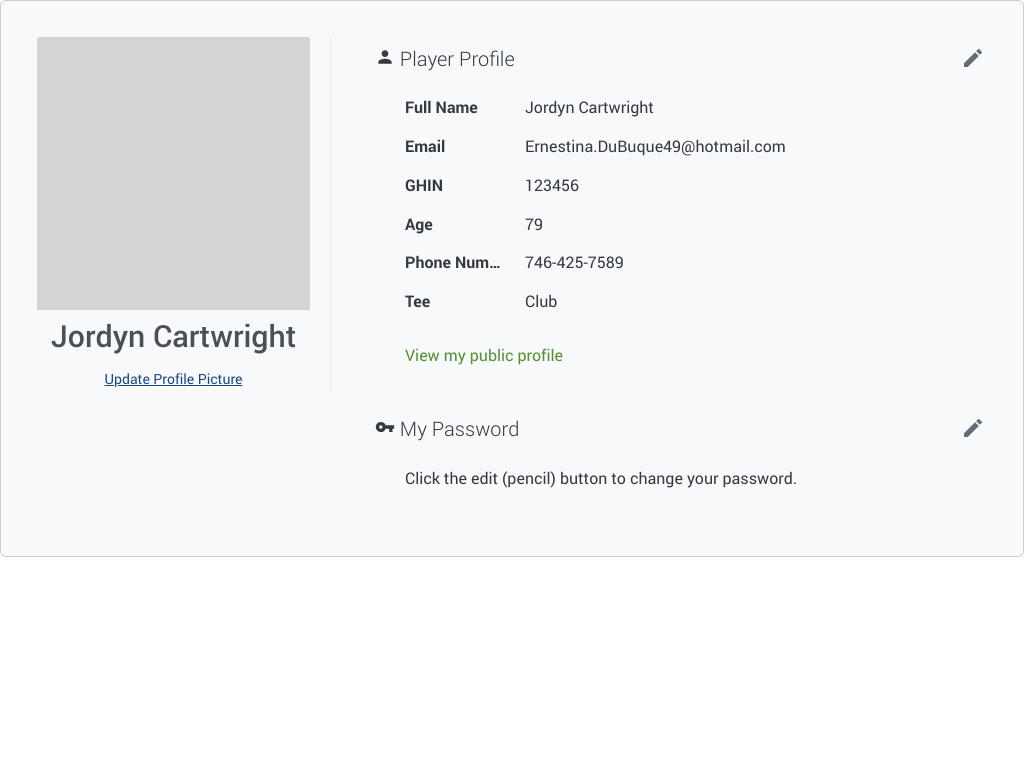
Test case: can edit profile on the player account screen
The width and height of the screenshot is (1024, 768).
// update player
Click the button named "update your player profile" at (970, 60), box [955,45,985,75]
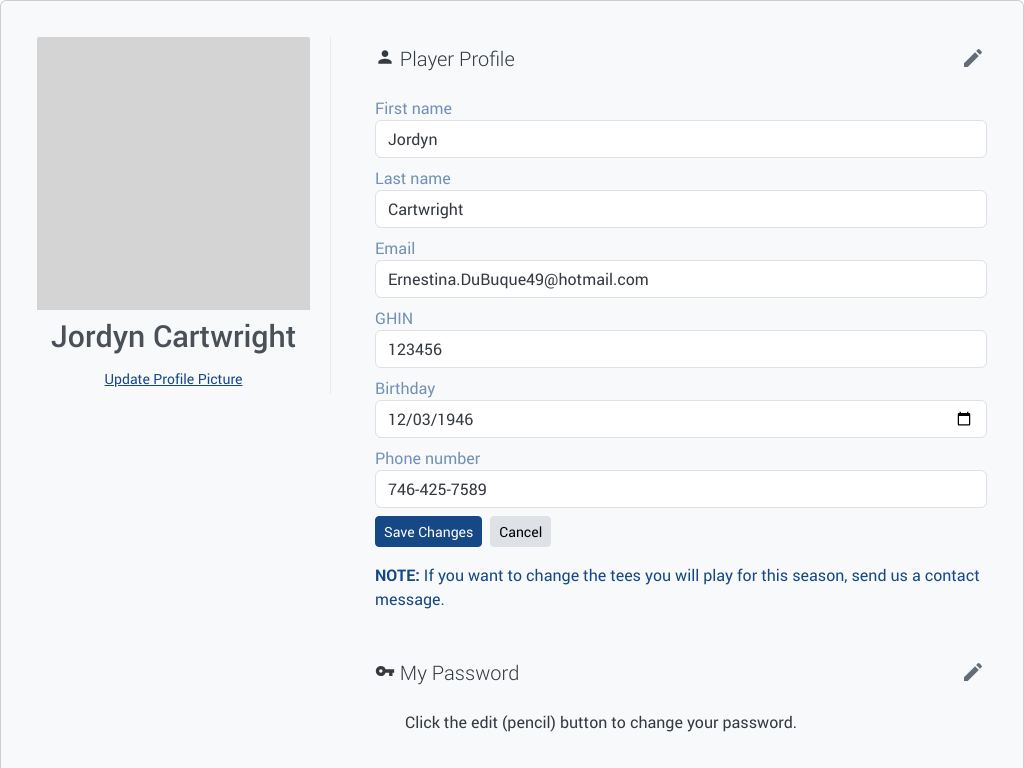
Replace the text in the field labelled "GHIN" with "1234567" at (681, 349), box [375,330,987,368]
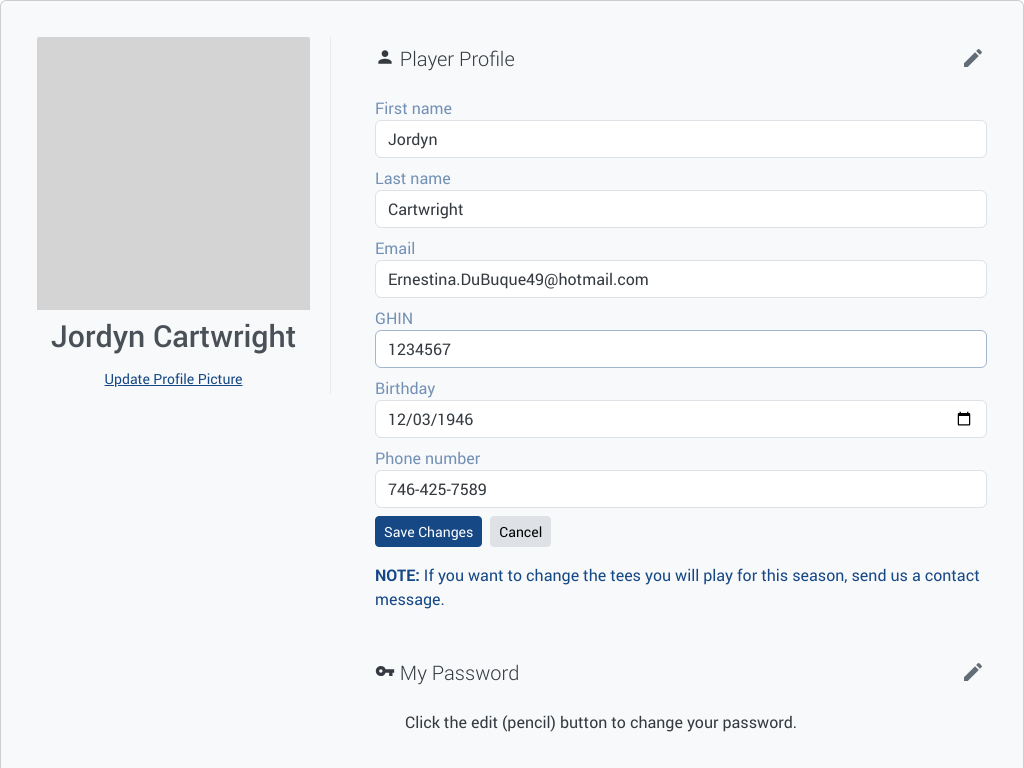
Click the button "Save Changes" at (429, 532), box [375,516,482,547]
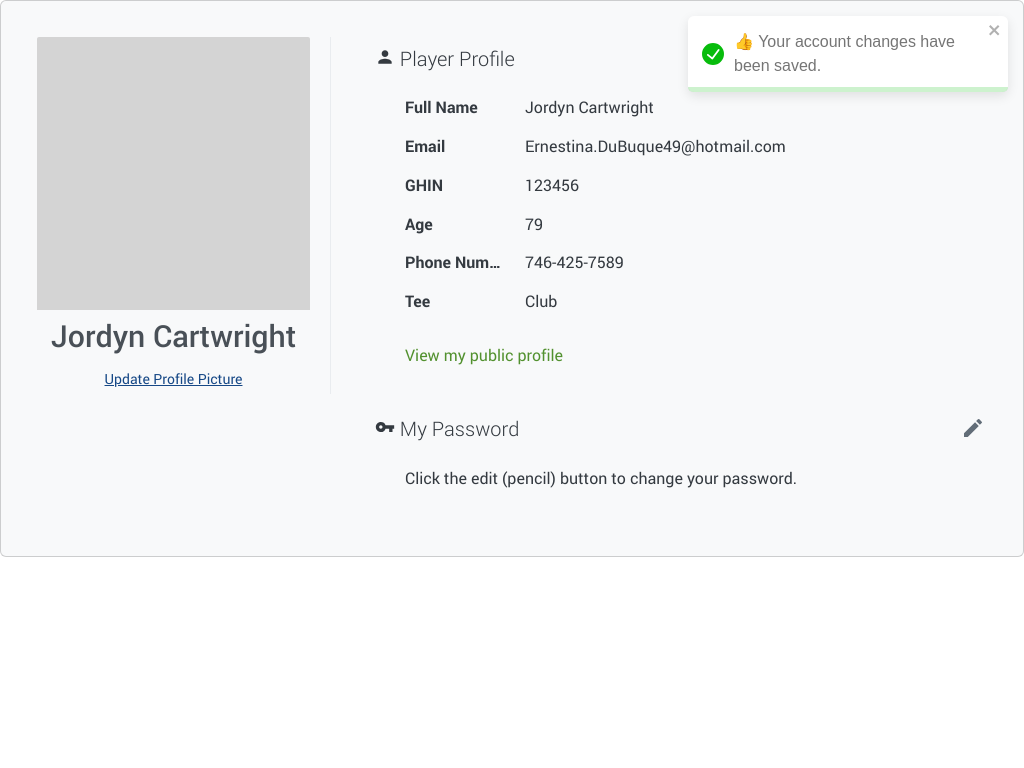
Now the text "👍 Your account changes have been saved." is shown, box [688,16,1008,92]
